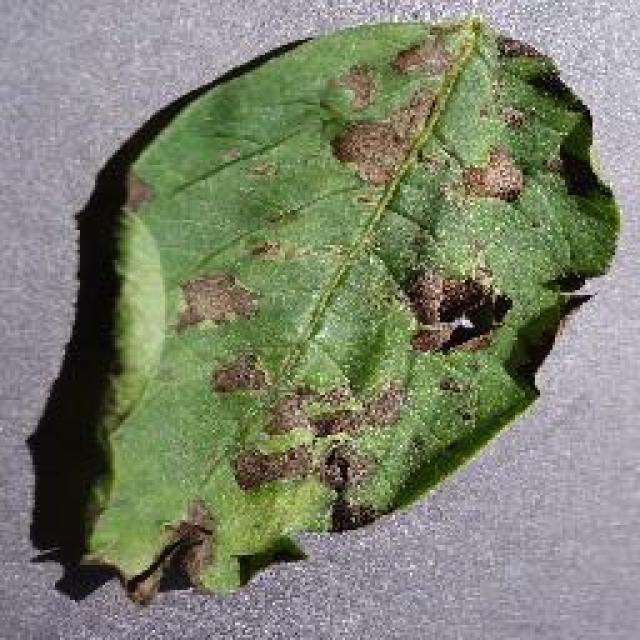Potato___Early_blight: (73, 14, 625, 610)
